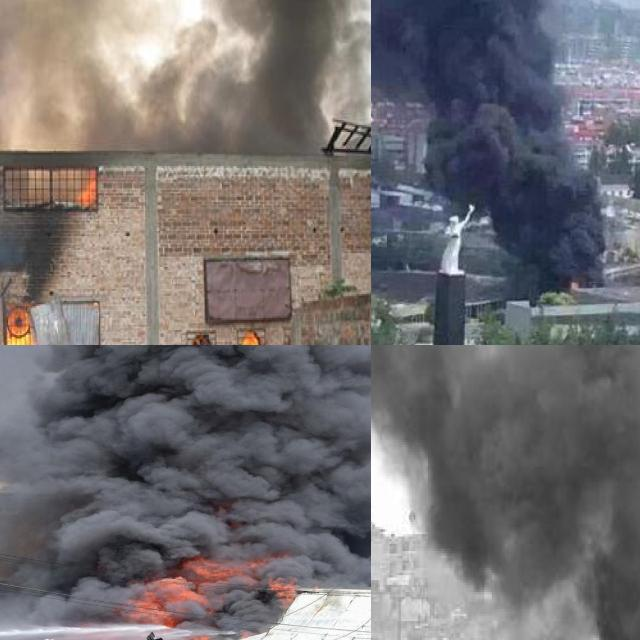fire: (124, 557, 292, 635), (5, 307, 33, 345), (76, 168, 95, 204), (234, 326, 260, 345)
smoke: (0, 345, 371, 620), (371, 345, 640, 640), (371, 0, 604, 290), (0, 0, 371, 147)
